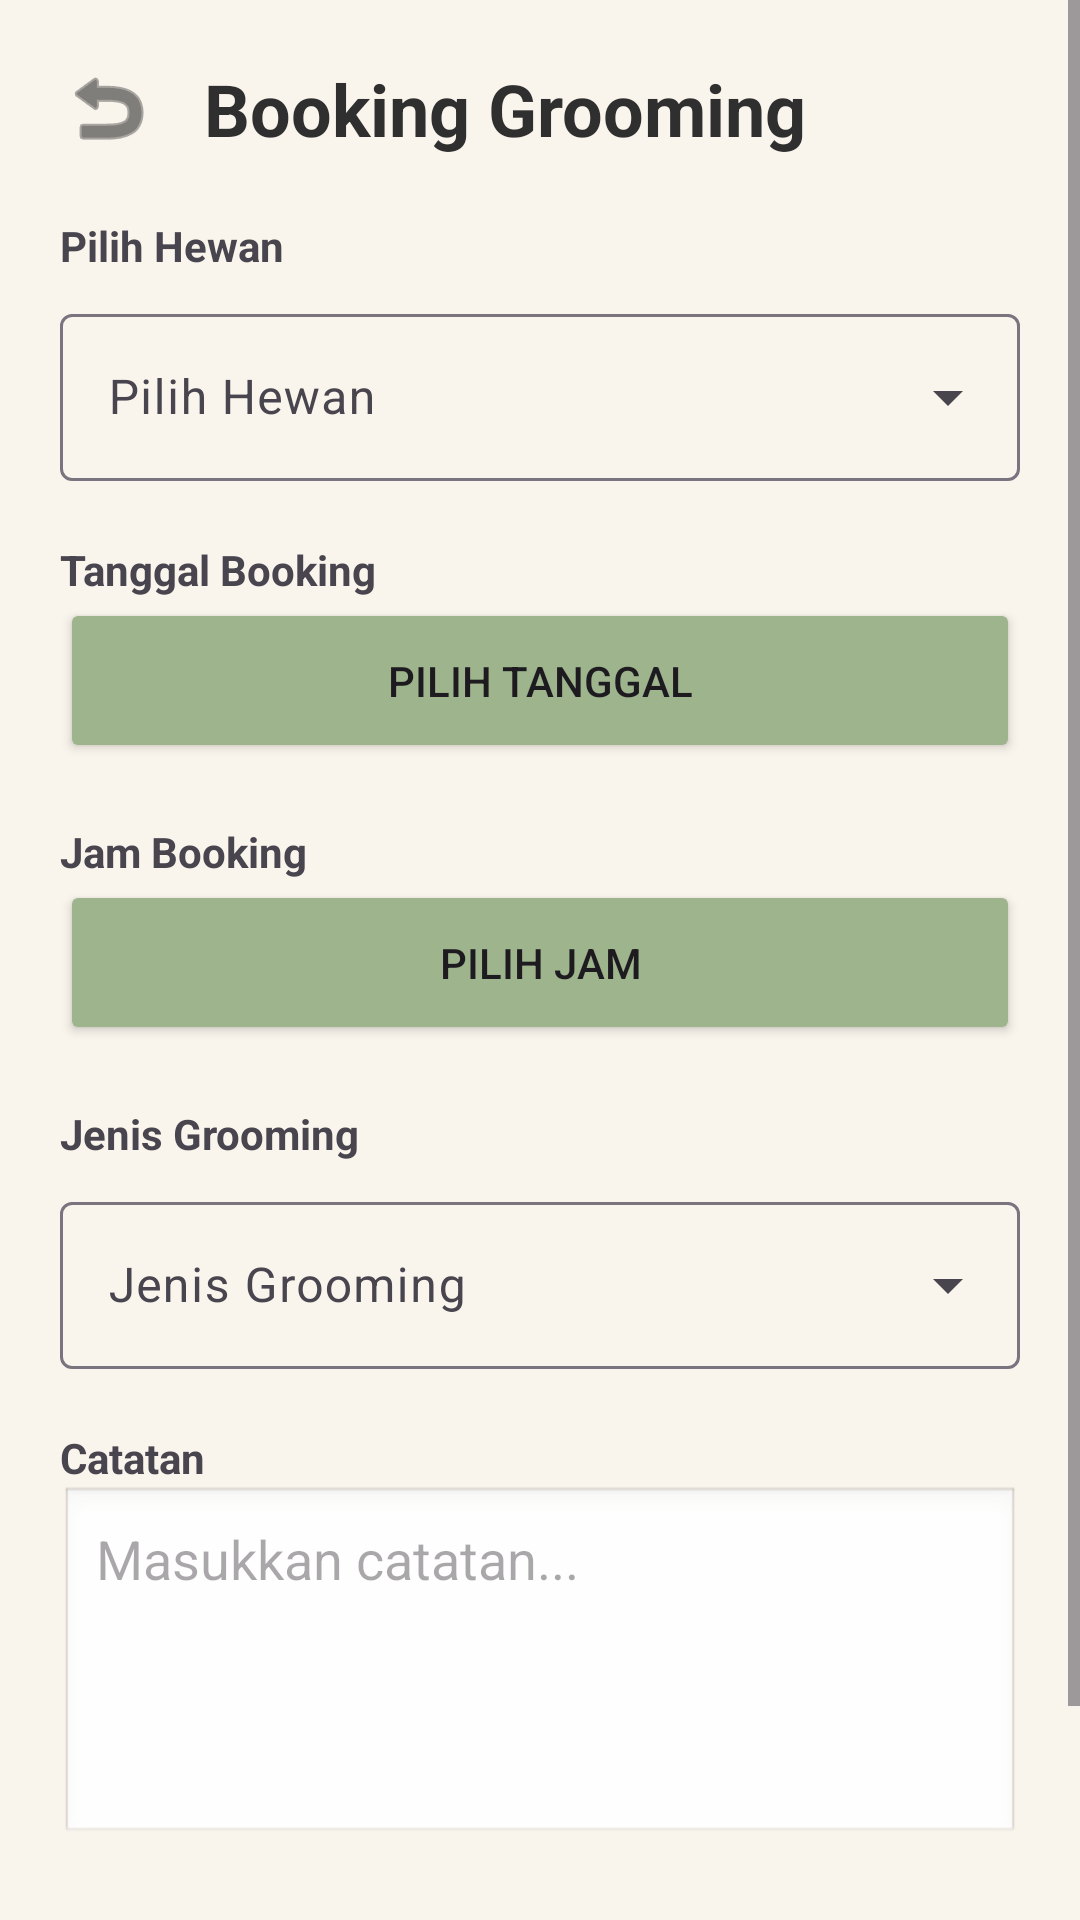

Screen size 1080×1920. Icon name, then its center in pixels as [x,y]:
Kembali: [109,108]
